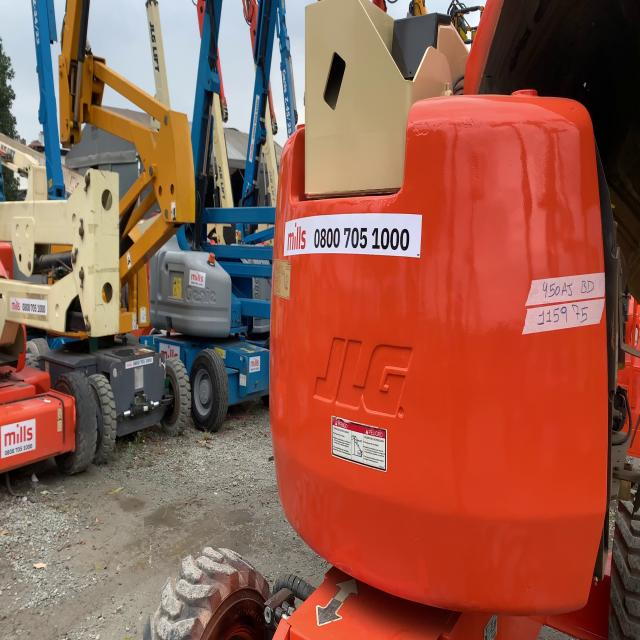Adesivo Longo: (281, 211, 426, 266)
